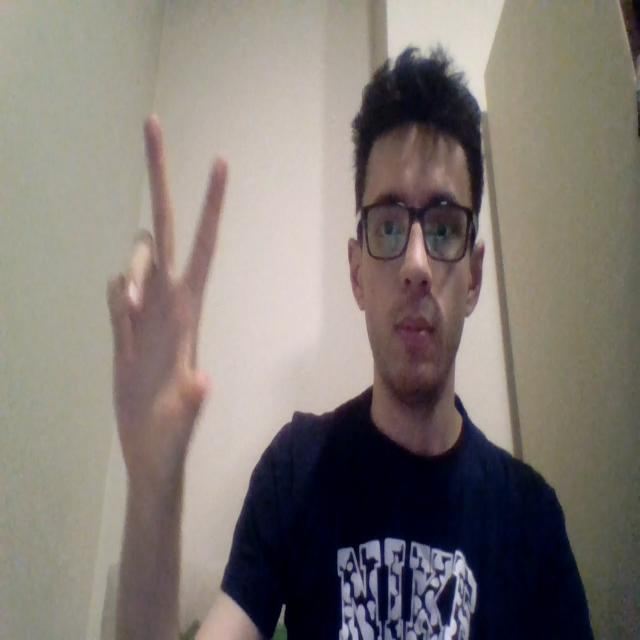no: (105, 111, 229, 489)
